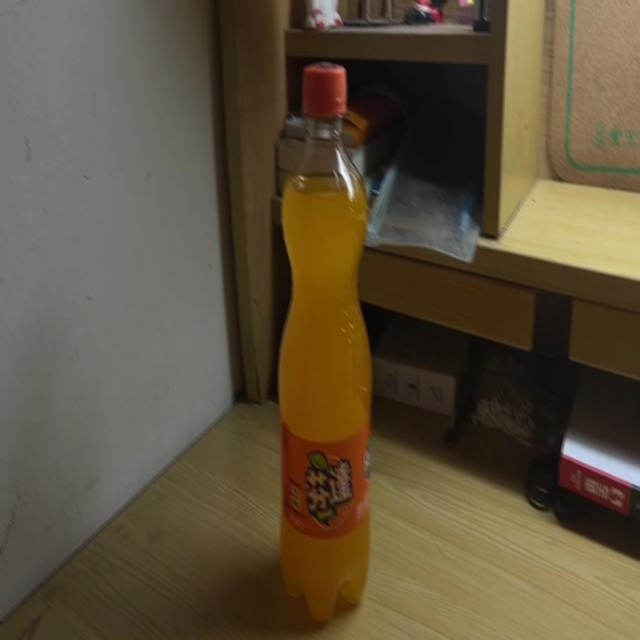Fanta: (279, 64, 372, 620)
